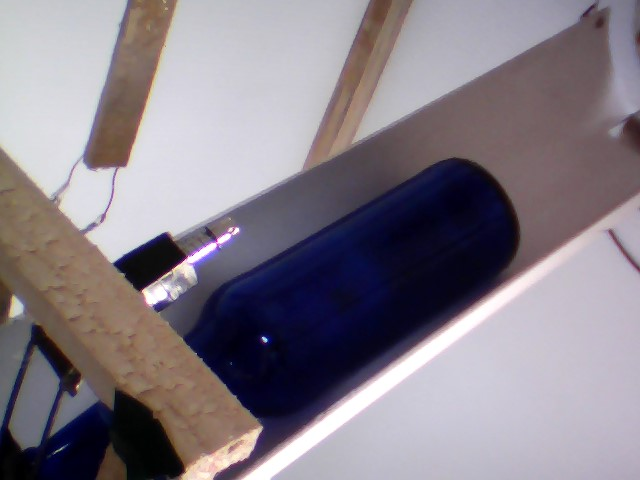vidrio: (182, 151, 534, 427)
